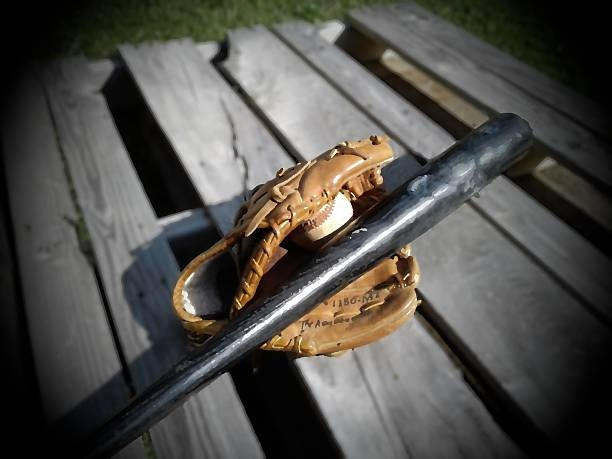bita: (61, 111, 536, 459)
